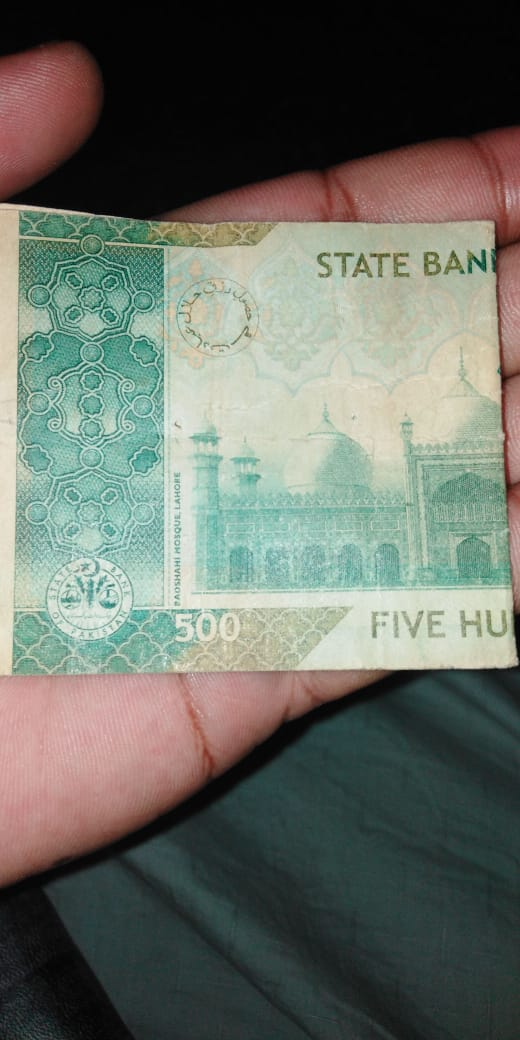500 rupee: (6, 186, 508, 690)
